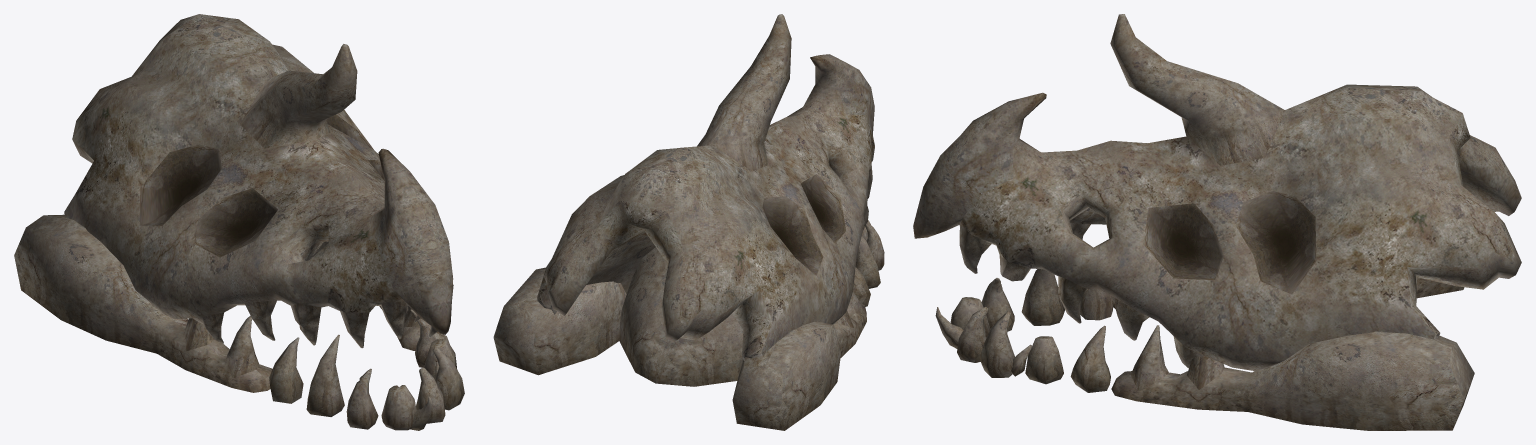
Rendered from Co_A_DinoBone01.FBX.
3 views of the same model, side by side, from view 1: azimuth 30°, elevation 25°; view 2: azimuth 150°, elevation 25°; view 3: azimuth 270°, elevation 25° (orthographic). The views are drawn at different scales.
Visible parts, largest first — view 1: Co_A_DinoBone01; view 2: Co_A_DinoBone01; view 3: Co_A_DinoBone01.
Boxes of the visible parts, bbox=[...] form: Co_A_DinoBone01: bbox=[14, 14, 464, 430]; Co_A_DinoBone01: bbox=[493, 14, 884, 430]; Co_A_DinoBone01: bbox=[913, 14, 1521, 430].
Size of the model in its own units: 2199 by 2034 by 3316.
